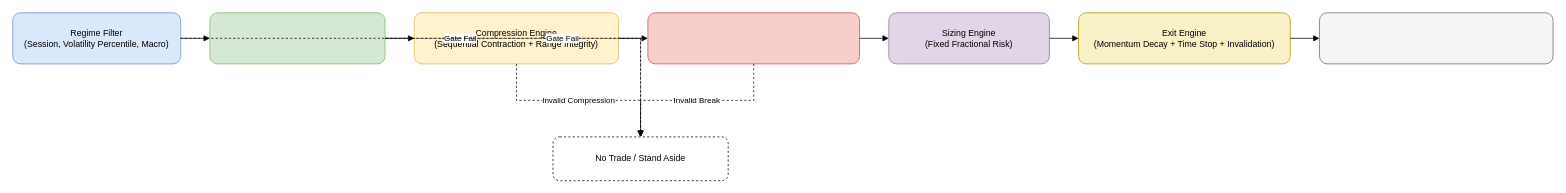
Some shapes in this 1566 by 193 pixel diagram are drawn without their labels. The box of each missing label's shape, as (x1, y1, x2, y2) in pixels:
Breakout Engine (Time Window + Full-Close + Reentry Check): (647, 12, 860, 64)
Monitoring and Audit (Compression, Regime, Break Time, Exit Cause, Version): (1319, 12, 1553, 64)
Risk Gate (Spread, Liquidity, Stop Definability): (209, 12, 385, 64)
